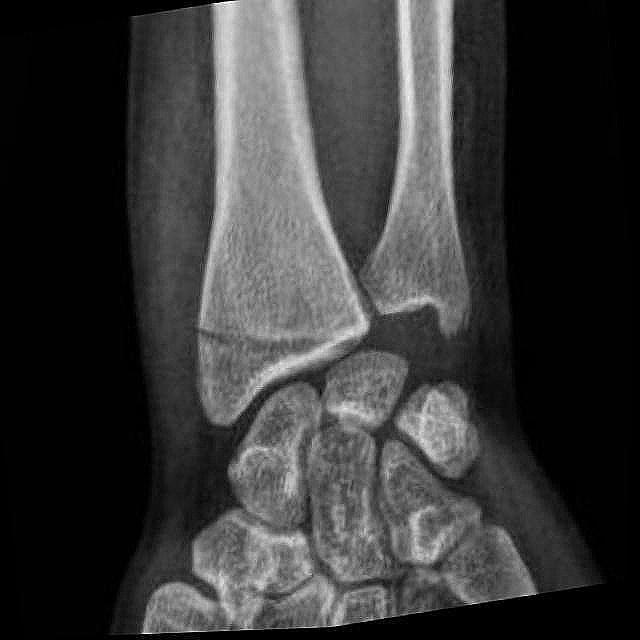bone: (183, 158, 375, 428)
